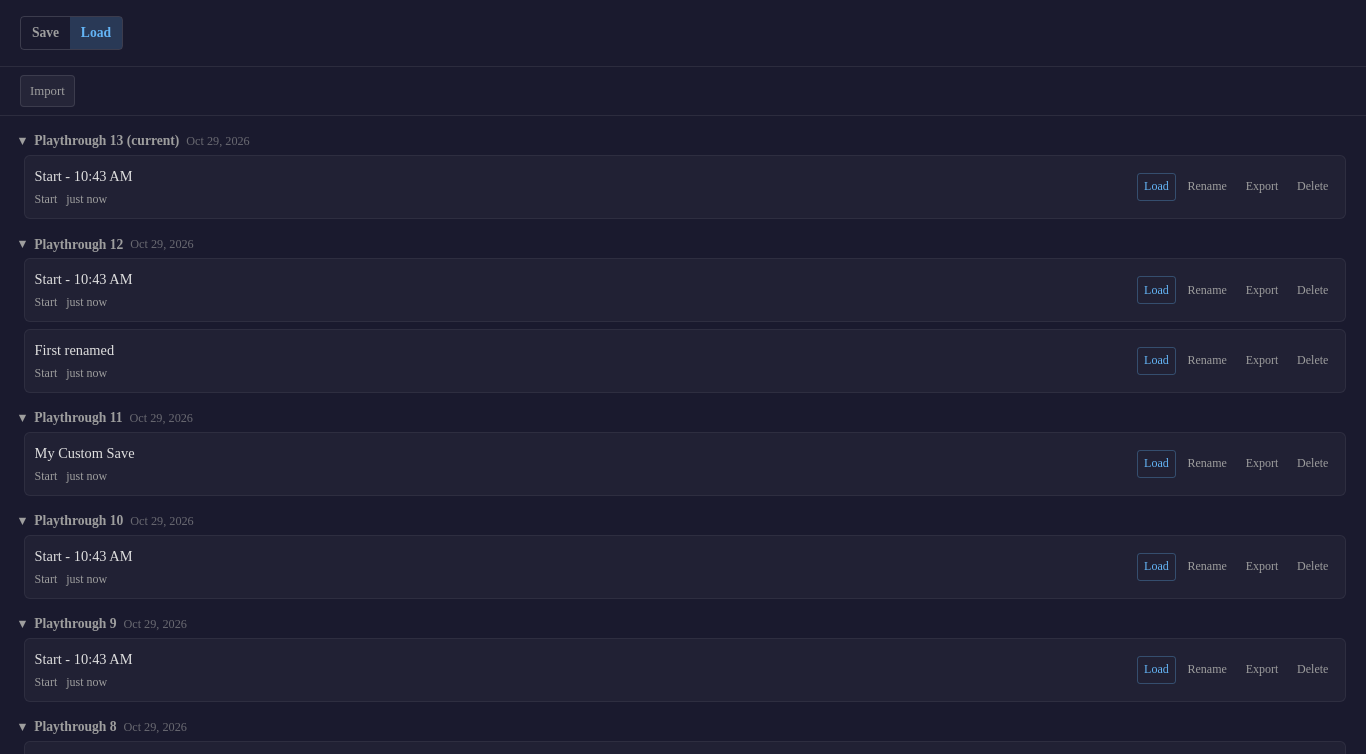
Test: SaveManagerContent › rename › pressing Escape cancels rename
Click the 2nd button with class "save-slot-action": (1207, 187) [1180,173,1234,201]
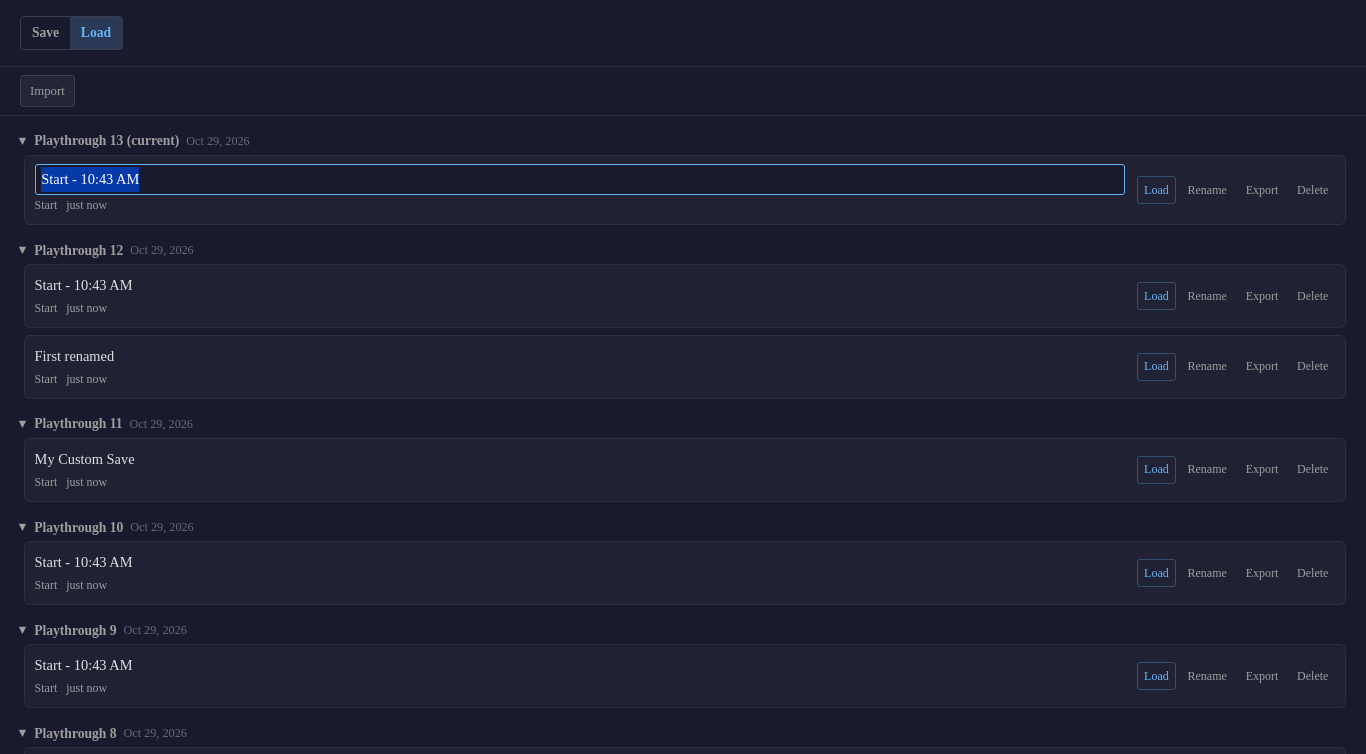
Now the field with class "save-rename-input" is shown
Press Escape in the field with class "save-rename-input", box [35,164,1125,195]
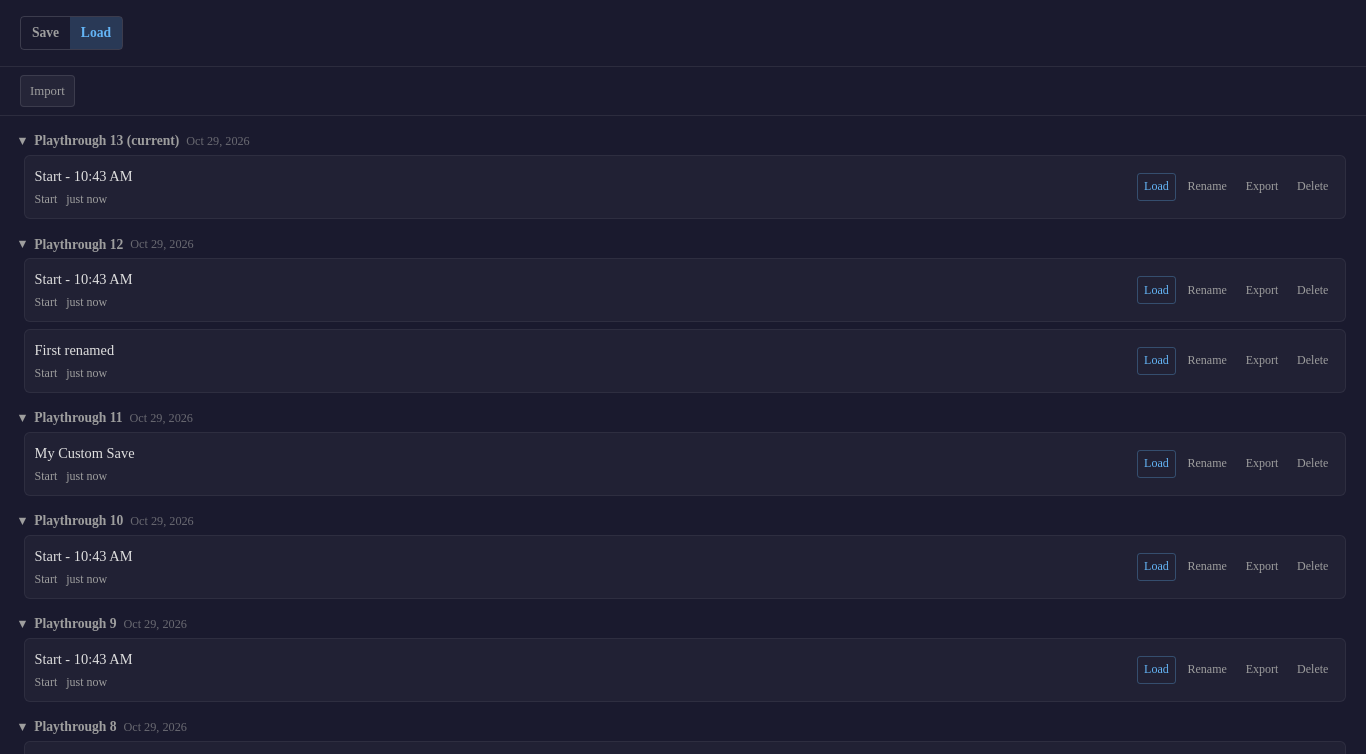
Now the field with class "save-rename-input" is gone
